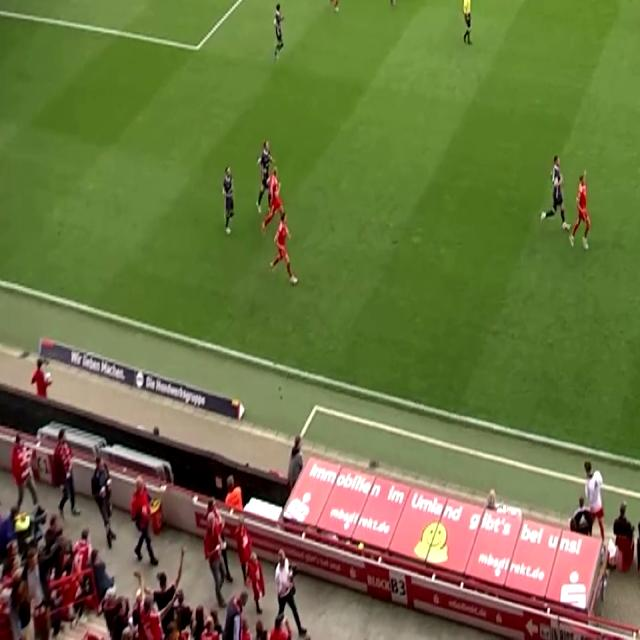referee: (458, 0, 483, 51)
soccer-player: (534, 150, 572, 253), (564, 168, 598, 257), (270, 208, 300, 287), (268, 0, 294, 68), (220, 163, 238, 238), (255, 134, 271, 211), (318, 0, 346, 15), (380, 0, 407, 11), (638, 0, 640, 40)
